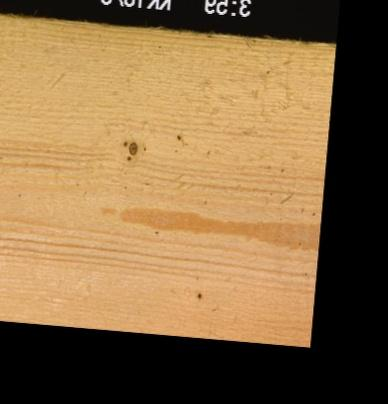dry_knot: (127, 138, 139, 154)
small_knot: (195, 289, 203, 299), (122, 154, 133, 161), (175, 131, 182, 141)
